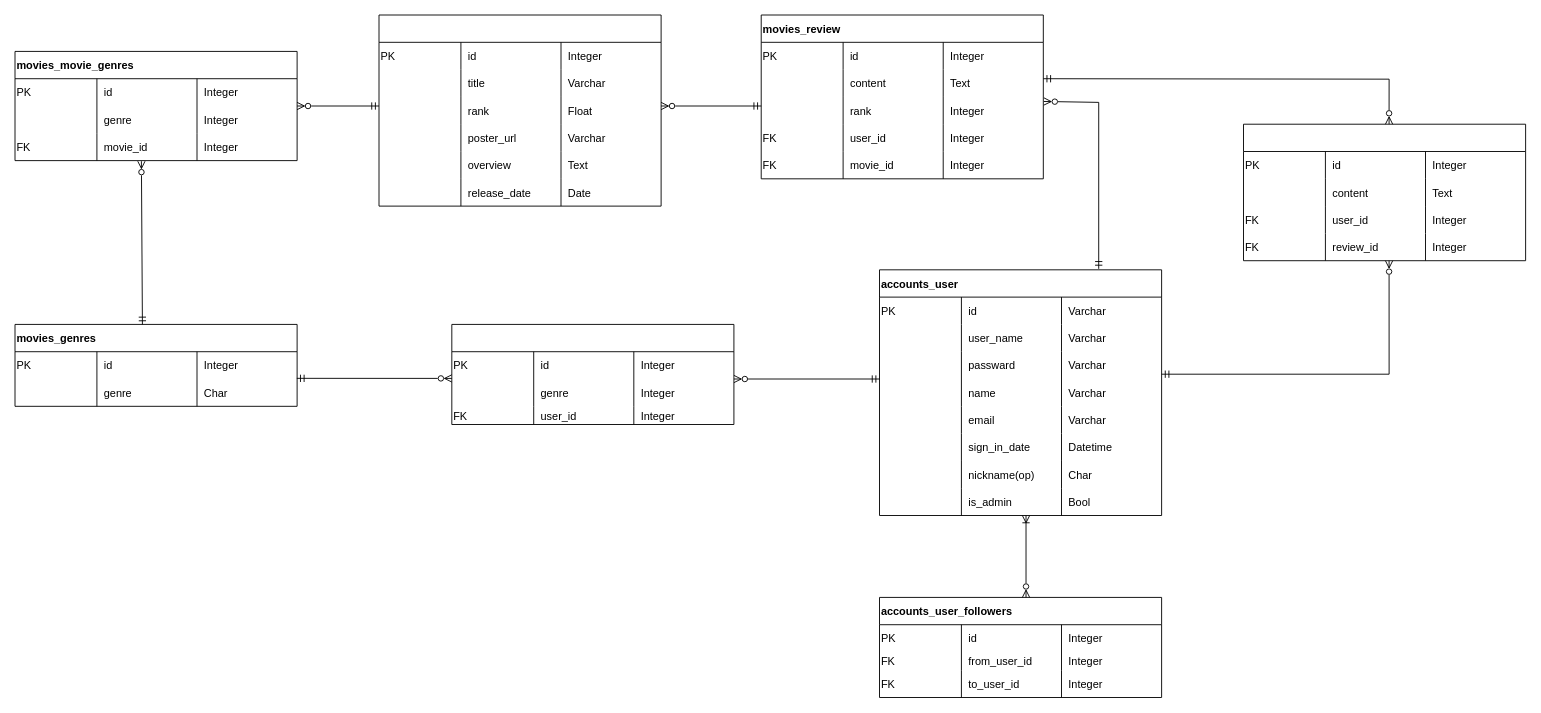
The diagram is 1541 pixels wide and 713 high, and some of its shapes have lost their labels. Each missing label, with the box of its shape:
accounts_user_genres: (451, 324, 734, 425)
comments: (1243, 123, 1526, 261)
movies_movie: (378, 14, 661, 206)
